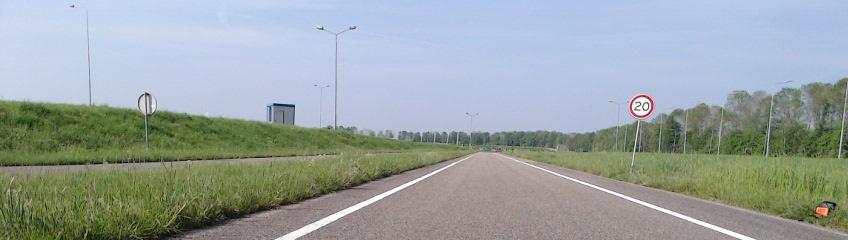Speed-limit-20km-h-: (630, 95, 653, 118)
